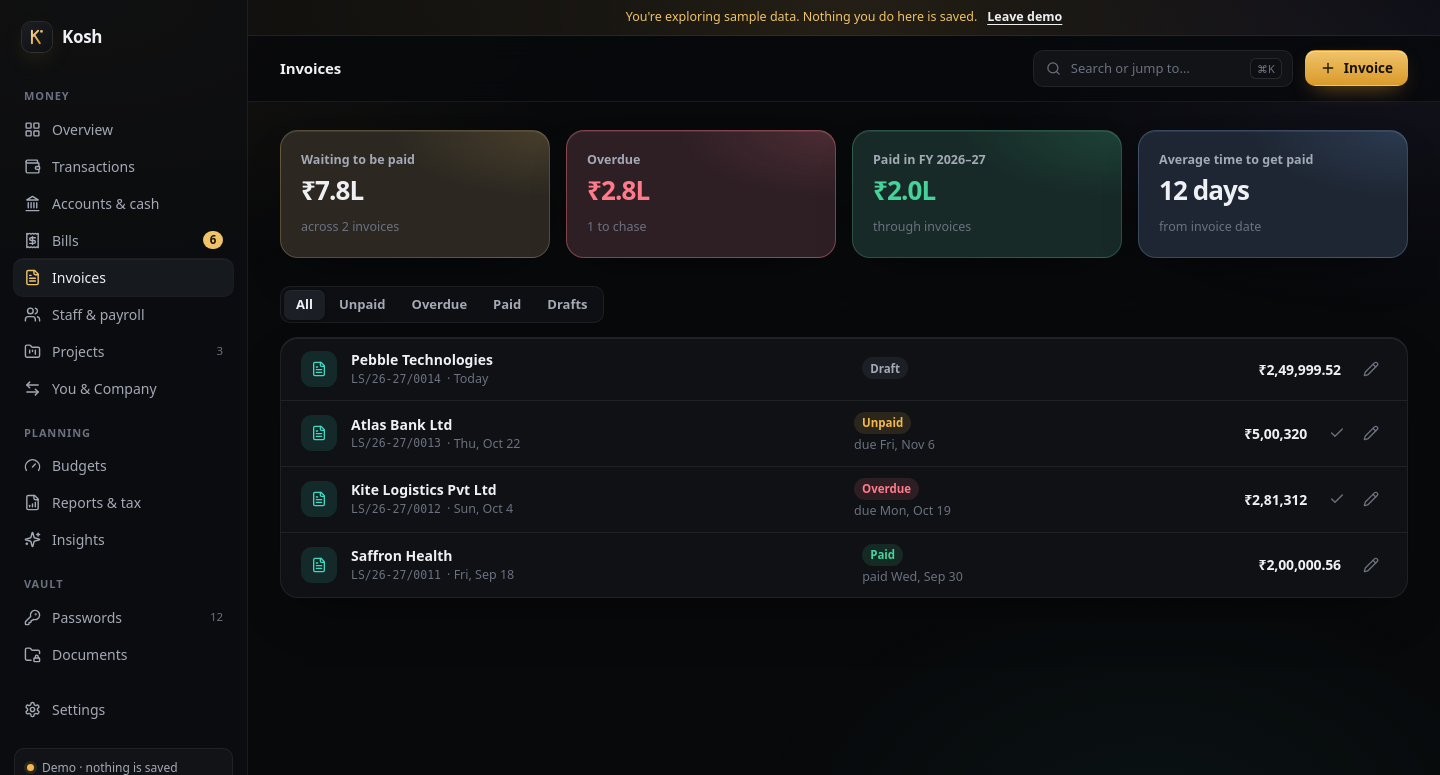
it: app smoke test › renders Staff & payroll
The image size is (1440, 775).
Click the button with class "nav-item" showing "Staff & payroll".
click(124, 314)  # box [14,296,233,332]
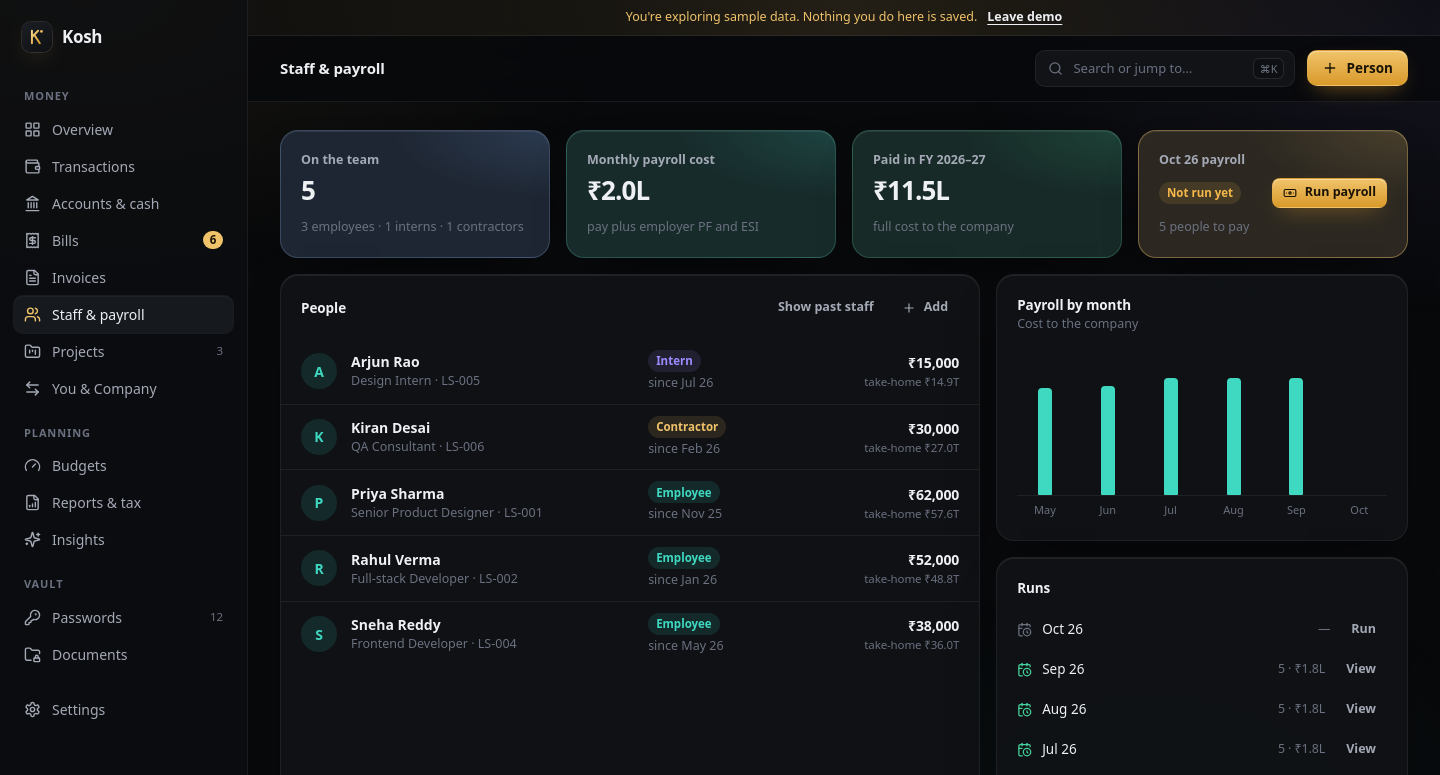
Result: the heading "S t a f f & p a y r o l l" is shown at [280,57,385,80]
Result: the text "Monthly payroll cost" is shown at [587,151,715,168]
